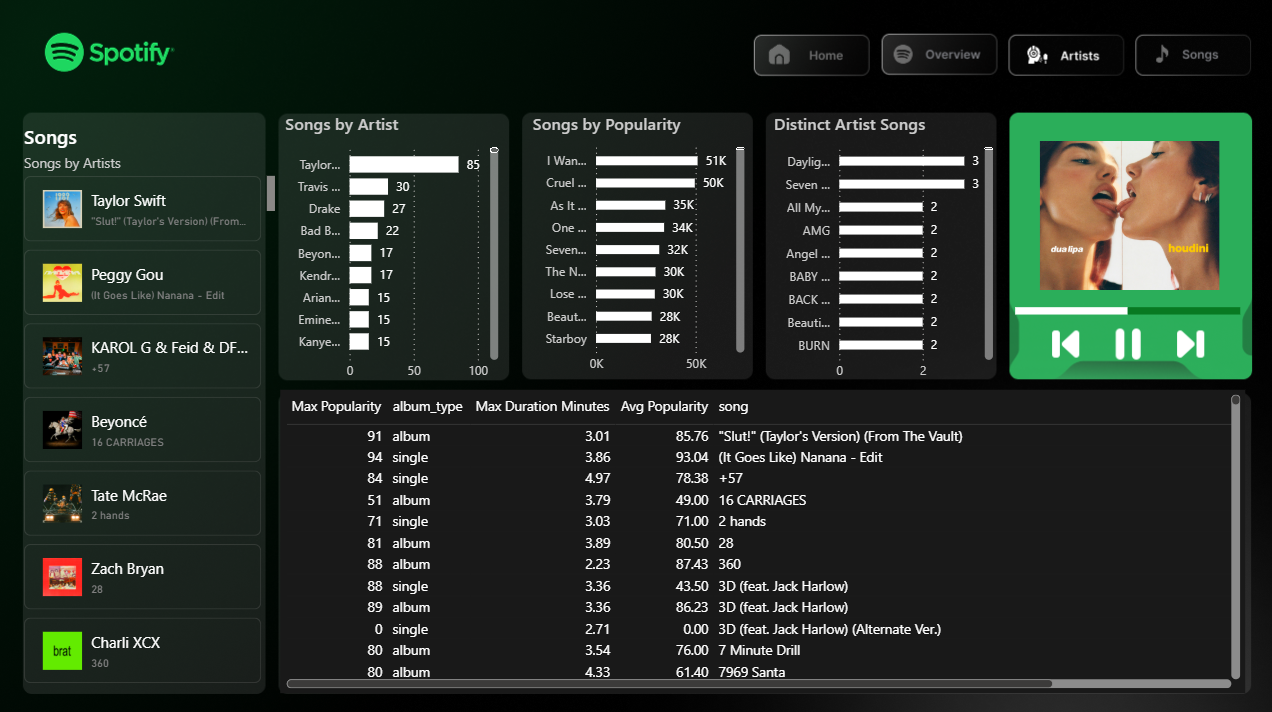

What the dashboard file says about the page in this screenshot:
{"tool":"powerbi","page":{"name":"Artist","canvas":[1280,720],"ordinal":2},"visuals":[{"type":"image","box":[20,18.6,1260,701.4],"z":0},{"type":"actionButton","box":[758.6,55.7,112.9,40],"z":1000},{"type":"actionButton","box":[890,55.7,118.6,40],"z":2000},{"type":"actionButton","box":[1014.3,55.7,107.1,40],"z":3000},{"type":"actionButton","box":[1135.7,55.7,108.6,40],"z":4000},{"type":"clusteredBarChart","title":"Songs by Artist","fields":{"Y":["_Measures.Distinct Songs"],"Category":["Top-50-World.artist"]},"box":[300,128.6,218.6,271.4],"z":5000},{"type":"clusteredBarChart","title":"Distinct Artist Songs","fields":{"Y":["_Measures.Distinct Artists"],"Category":["Top-50-World.song"]},"box":[777.1,128.6,224.3,271.4],"z":6000},{"type":"advancedSlicerVisual","title":"Songs","fields":{"Values":["Top-50-World.song"],"Label":["_Measures.Avg Popularity"]},"box":[44.3,140,255.7,557.1],"z":7000},{"type":"tableEx","fields":{"Values":["_Measures.Max Popularity","Top-50-World.album_type","_Measures.Max Duration Minutes","_Measures.Avg Popularity","Top-50-World.song","Top-50-World.release_date.Variation.Date Hierarchy.Year","Top-50-World.release_date.Variation.Date Hierarchy.Month","Top-50-World.release_date.Variation.Date Hierarchy.Day"]},"box":[300,400,944.3,297.1],"z":8000},{"type":"image","box":[1109.3,340,40,30],"z":9000},{"type":"image","box":[1170,340,40,30],"z":10000},{"type":"image","box":[1048.6,340,40,30],"z":11000},{"type":"barChart","fields":{"Y":["Avg(Top-50-World.popularity)","_Measures.Avg Popularity"]},"box":[1014.3,285.7,255.7,67.1],"z":12000},{"type":"cardVisual","fields":{"Data":["Min(Top-50-World.album_cover_url)"]},"box":[1014.3,140,265.7,180],"z":13000},{"type":"clusteredBarChart","title":"Songs by Popularity","fields":{"Y":["Sum(Top-50-World.popularity)"],"Category":["Top-50-World.song"]},"box":[541.4,128.6,217.1,264.3],"z":14000}]}

Visuals, with their boxes in screenshot pixels (x1, y1, x2, y2), scaled from the page's 1280x720 canvas onto the 1272x712 screenshot:
image: box(20, 18, 1271, 711)
actionButton: box(754, 55, 866, 95)
actionButton: box(884, 55, 1002, 95)
actionButton: box(1008, 55, 1114, 95)
actionButton: box(1129, 55, 1237, 95)
"Songs by Artist" clusteredBarChart: box(298, 127, 515, 396)
"Distinct Artist Songs" clusteredBarChart: box(772, 127, 995, 396)
"Songs" advancedSlicerVisual: box(44, 138, 298, 689)
tableEx - _Measures.Max Popularity x Top-50-World.album_type: box(298, 396, 1237, 689)
image: box(1102, 336, 1142, 366)
image: box(1163, 336, 1202, 366)
image: box(1042, 336, 1082, 366)
barChart - Avg(Top-50-World.popularity) x _Measures.Avg Popularity: box(1008, 283, 1262, 349)
cardVisual - Min(Top-50-World.album_cover_url): box(1008, 138, 1271, 316)
"Songs by Popularity" clusteredBarChart: box(538, 127, 754, 389)
